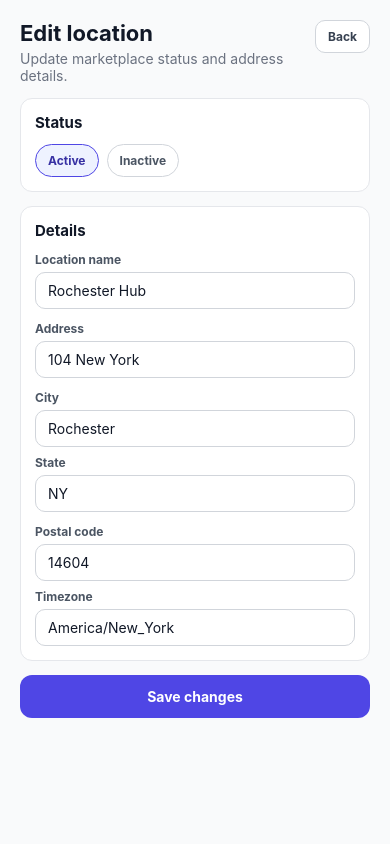
owner location mobile screens › updates a location and can mark it inactive
This screenshot has width=390, height=844.
Replace the text in the field named "Location name" with "Rochester Main" at x=195, y=290, box [35,272,355,309]
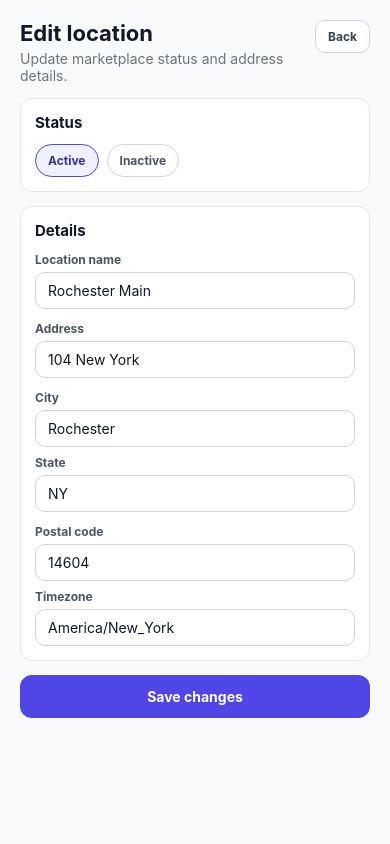
Click the button with aria-label "Set location inactive" at x=143, y=160, box [106,144,179,177]
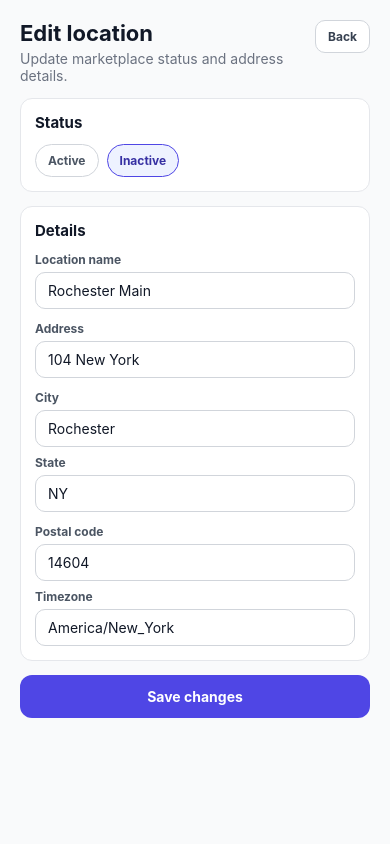
Click the text "Save changes" at x=195, y=696, box [147,688,243,705]
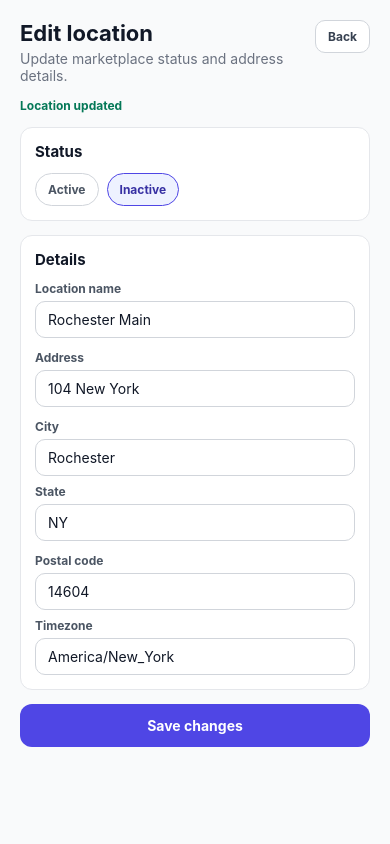
Now the text "Location updated" is shown, box [20,98,122,113]
